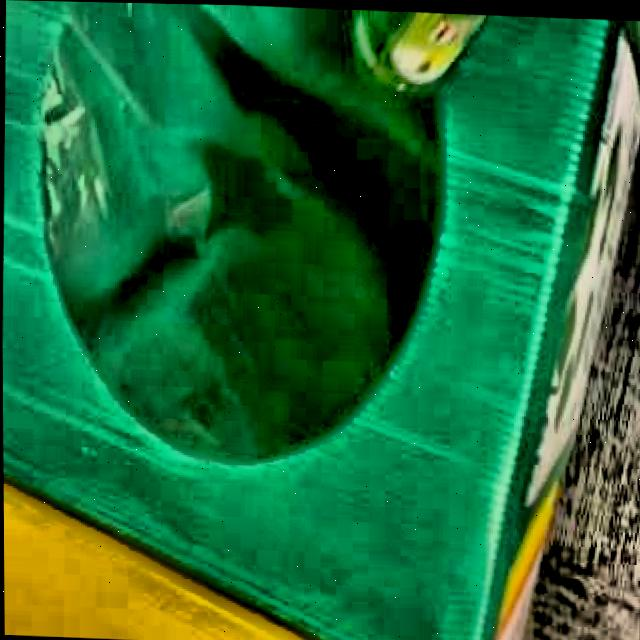glass: (355, 7, 484, 87)
